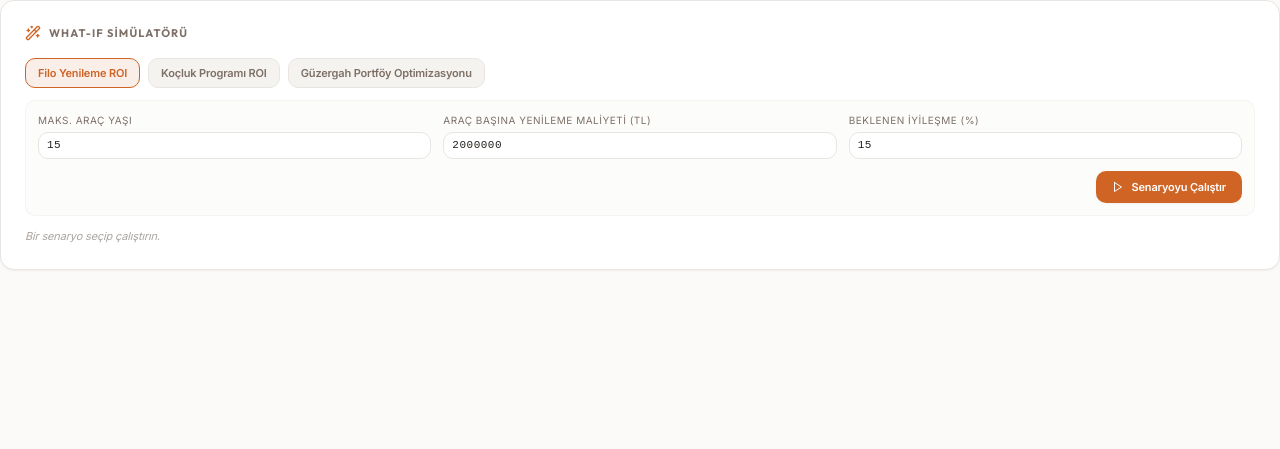
Test: WhatIfPanel › Monte Carlo P10/P50/P90 bandı görünür (route_portfolio)
Note: Senaryo değiştir
Click the button "Güzergah Portföy Optimizasyonu" at (386,73), box x1=288 y1=58 x2=485 y2=88
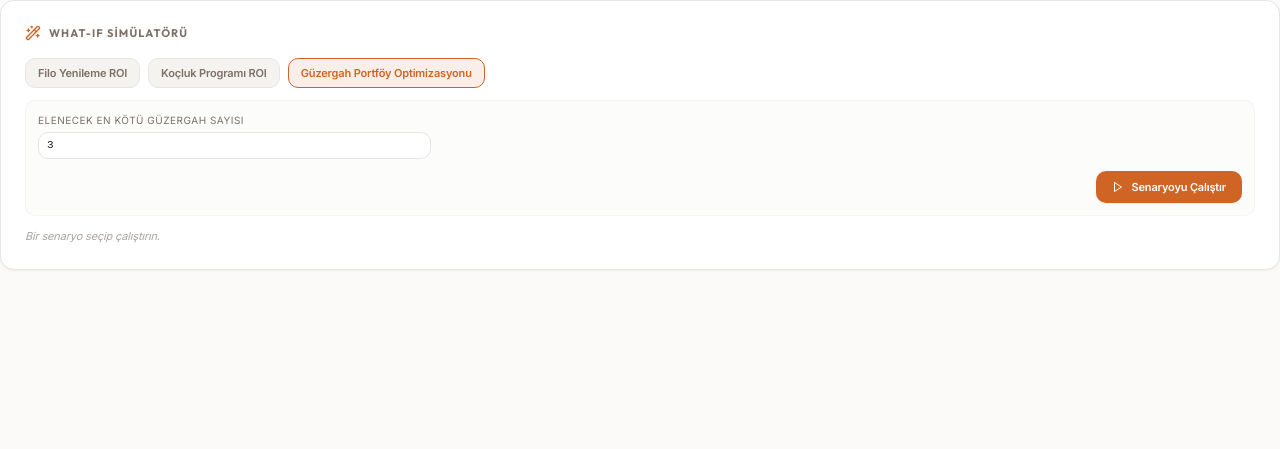
Click the button "Senaryoyu Çalıştır" at (1169,187), box x1=1096 y1=170 x2=1242 y2=203
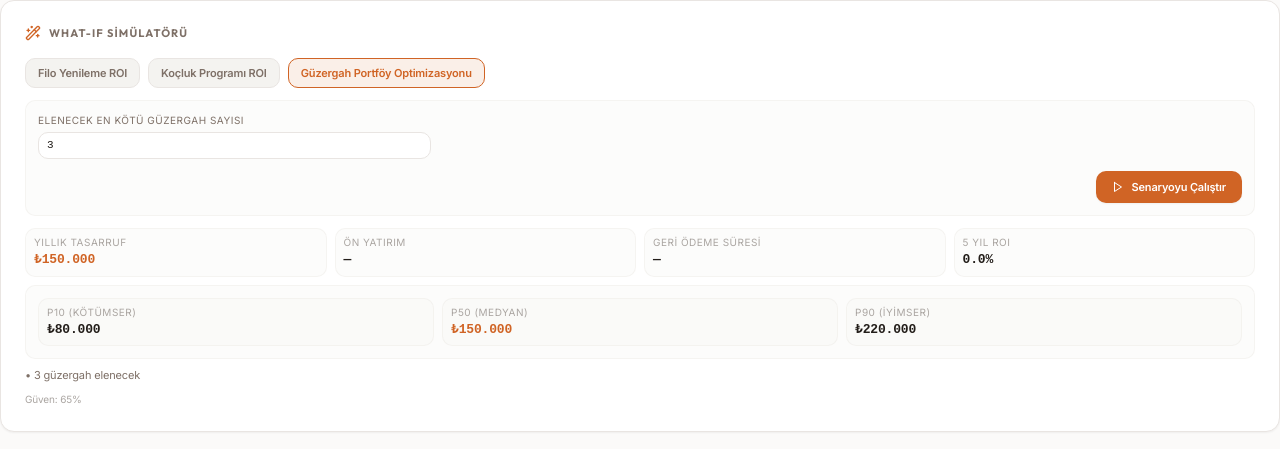
Now the text "₺220.000" is shown, box x1=855 y1=322 x2=916 y2=336
Now the text "P10 (kötümser)" is shown, box x1=47 y1=306 x2=136 y2=318
Now the text "P90 (iyimser)" is shown, box x1=855 y1=306 x2=931 y2=318
